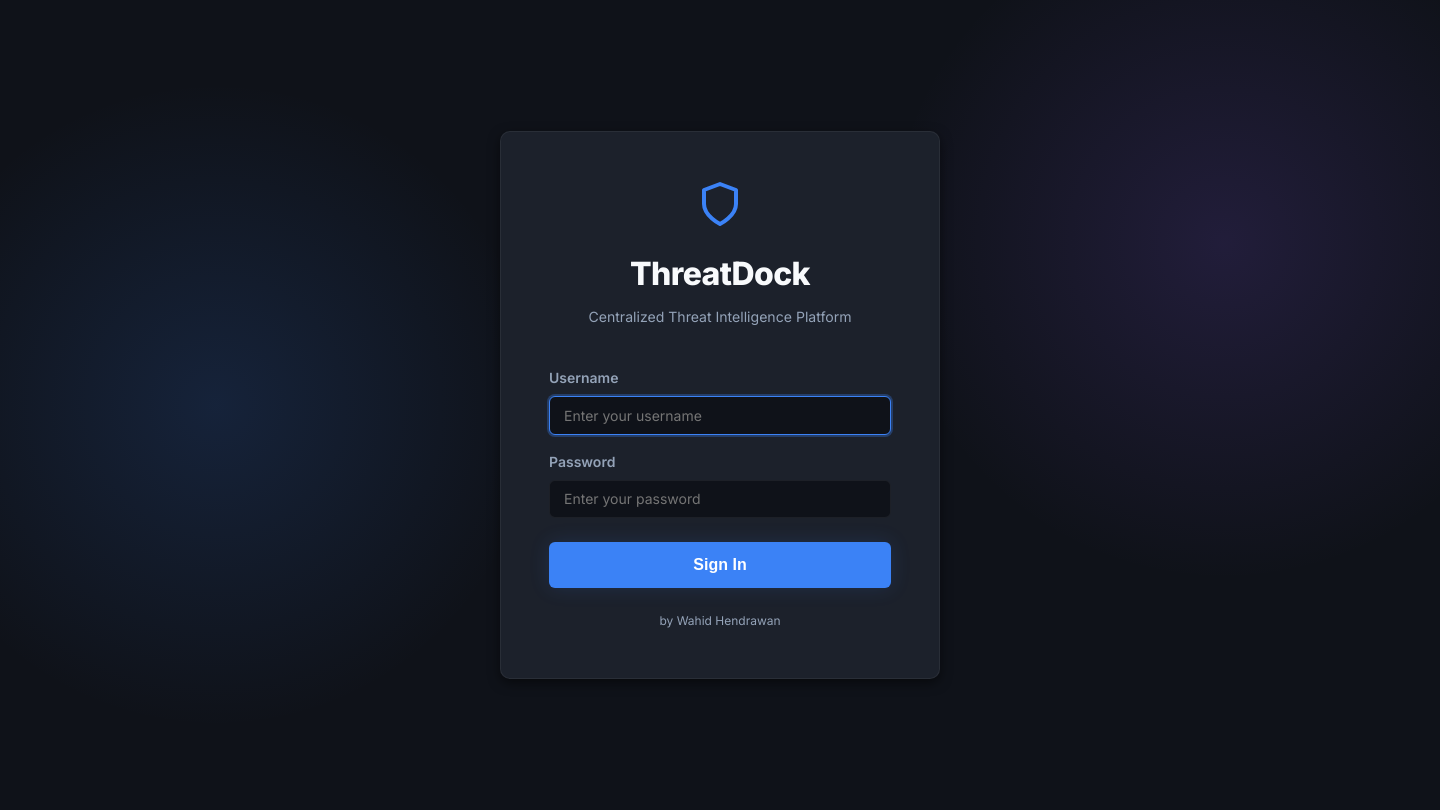
App authentication › shows an authentication error for rejected credentials
The image size is (1440, 810).
Type "analyst" into the field labelled "Username" at (720, 416), box [549,396,891,435]
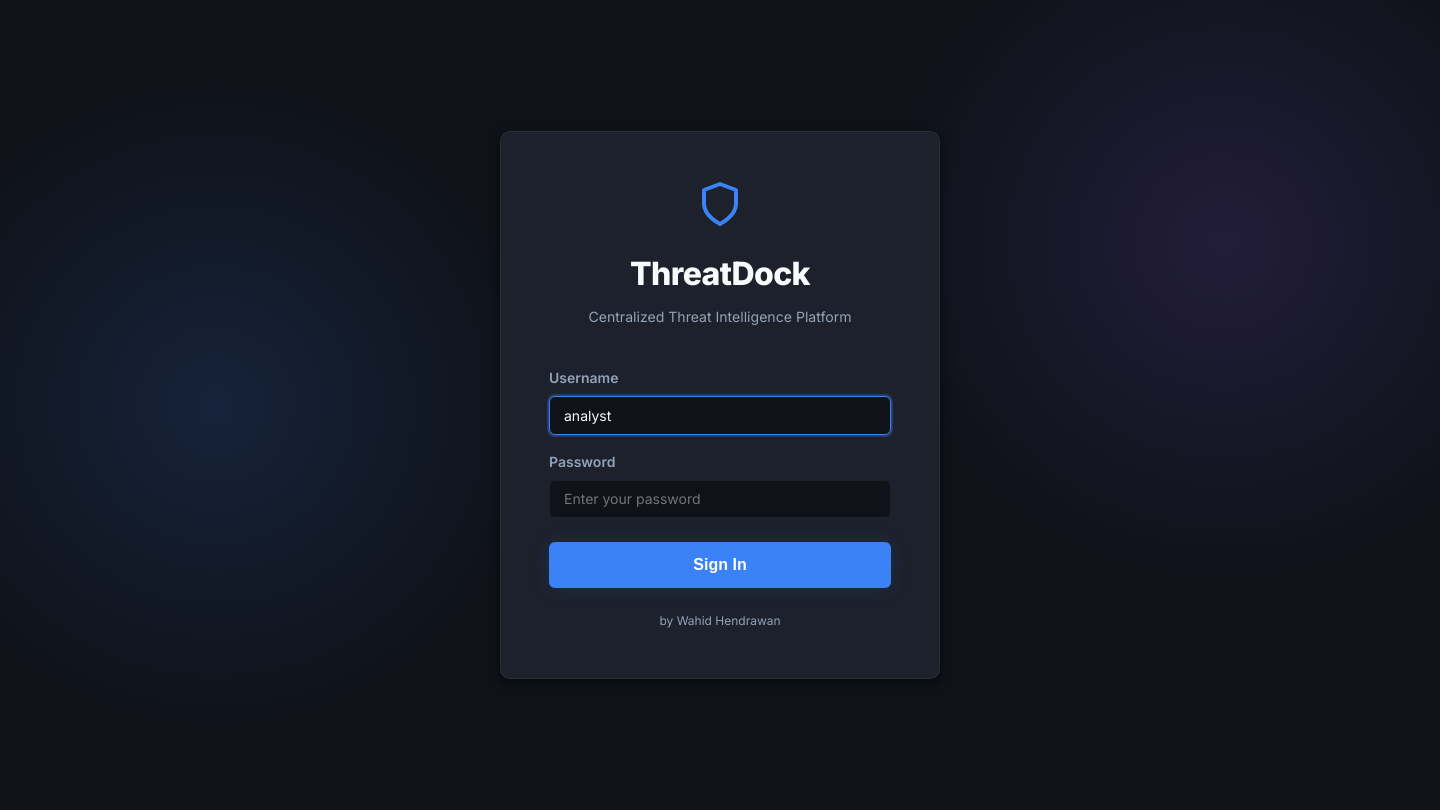
Type "wrong-password" into the password field labelled "Password" at (720, 499), box [549,480,891,518]
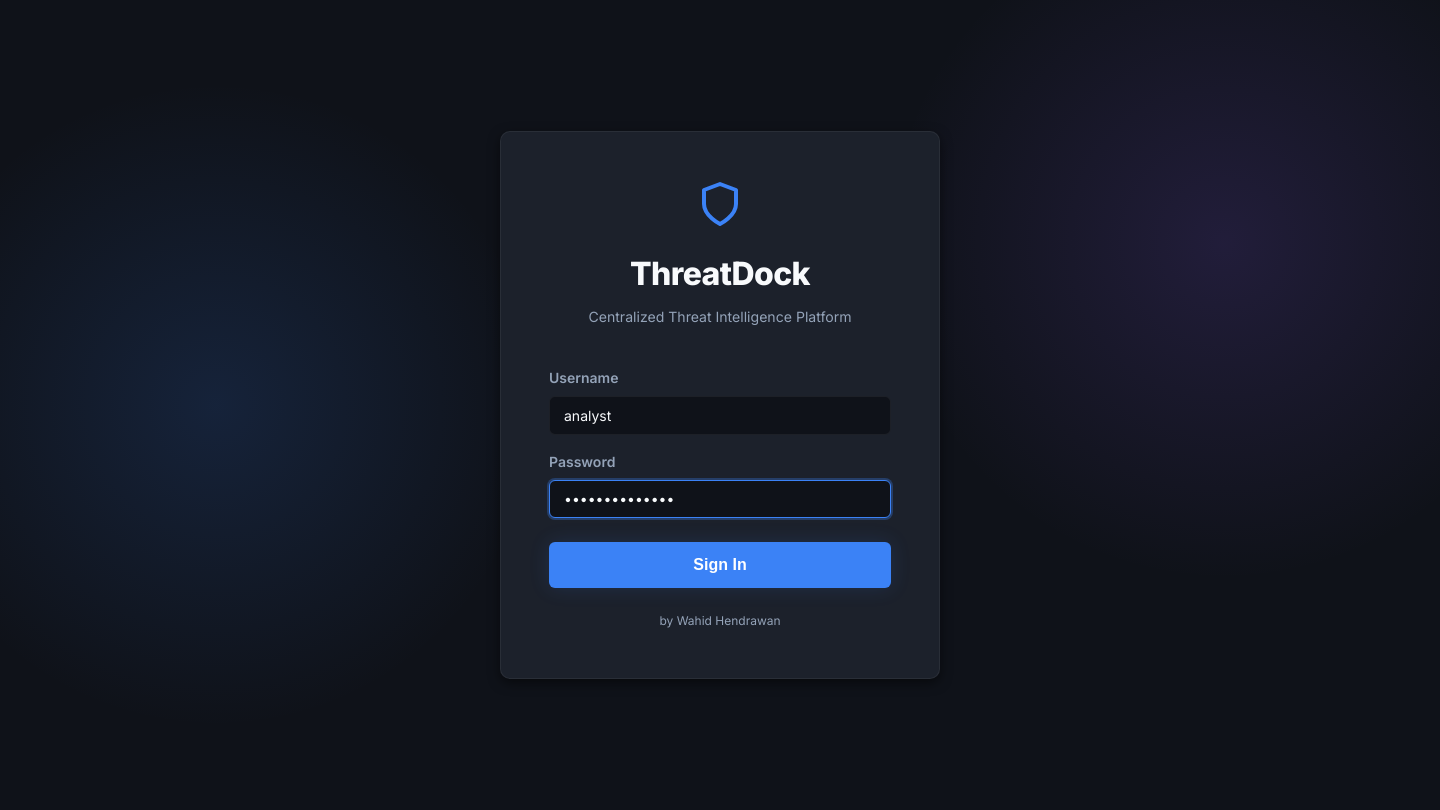
Click the button "Sign In" at (720, 565), box [549,542,891,588]
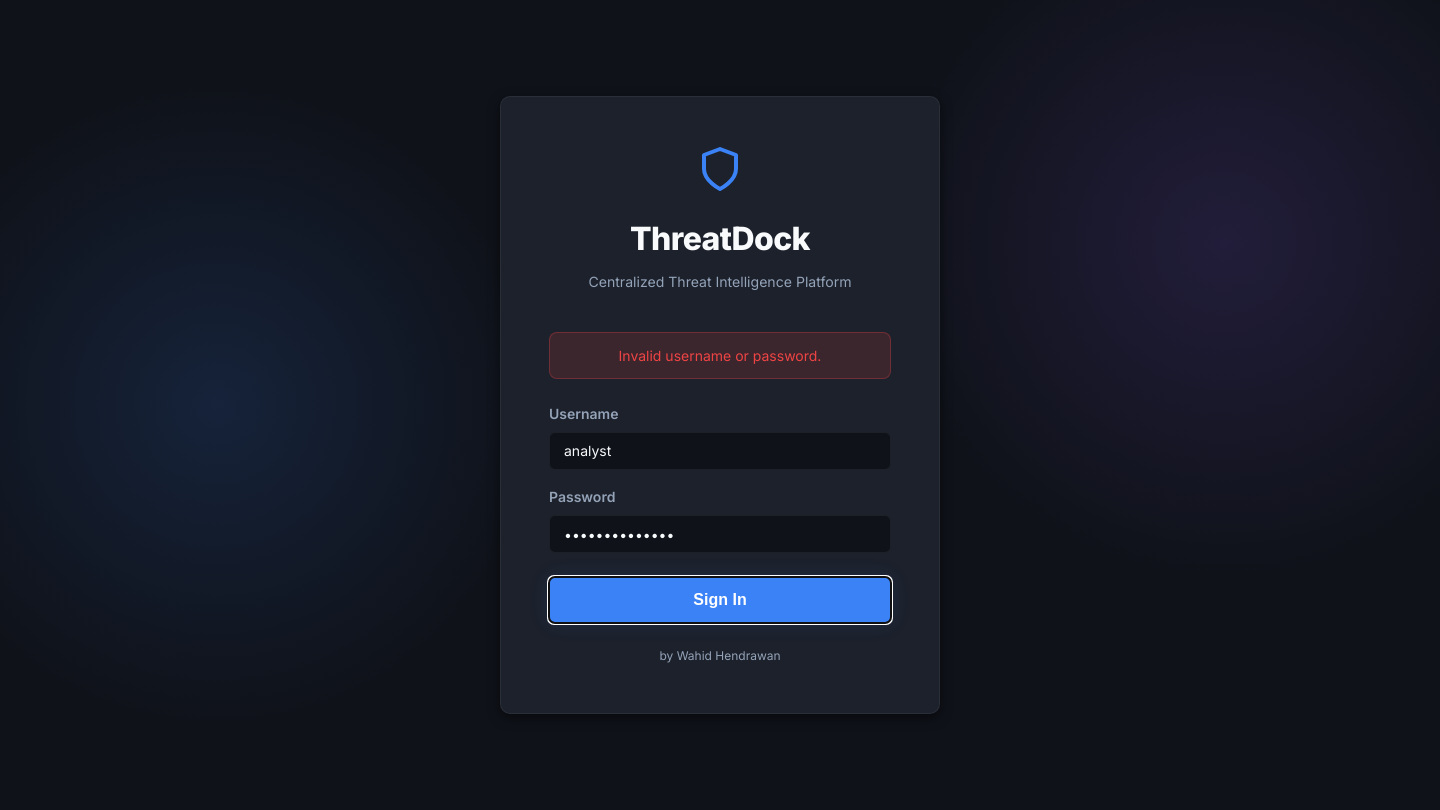
Expected: the text "Invalid username or password." is shown, [549,332,891,379]
